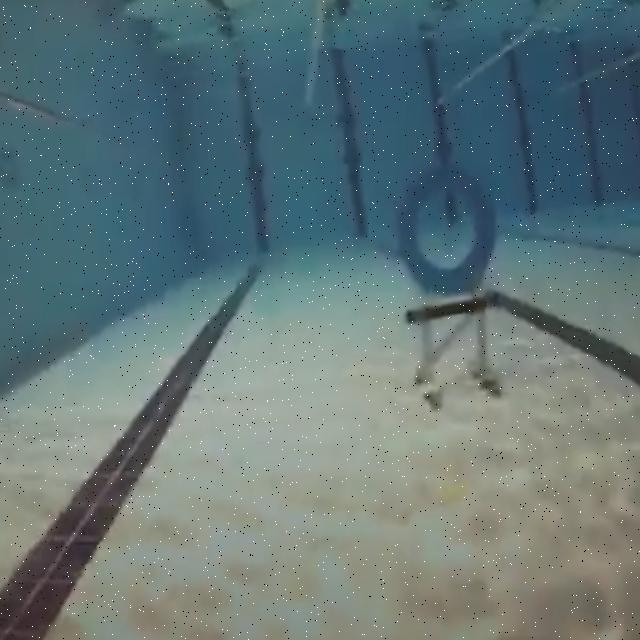Circle: (398, 156, 500, 293)
